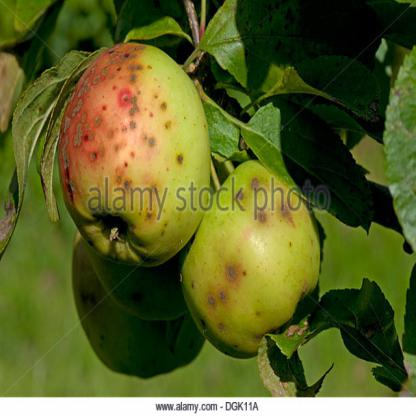apple scab leaf: (241, 96, 380, 237), (196, 1, 366, 103)
